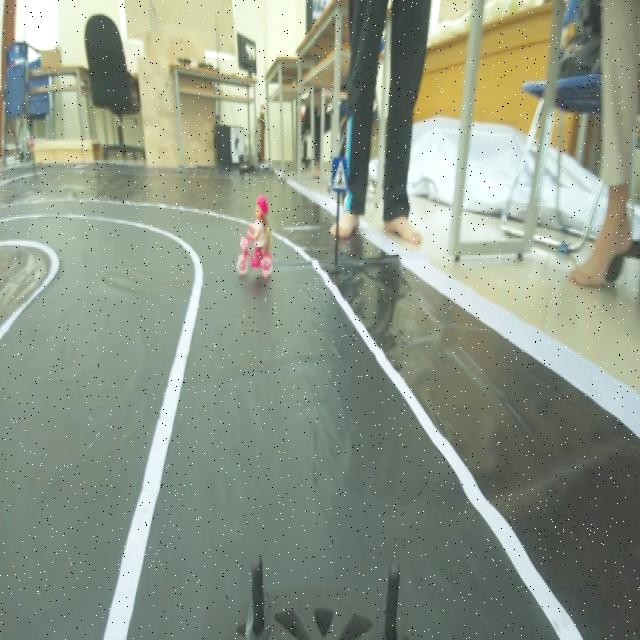pedestrian: (234, 193, 282, 293), (325, 153, 351, 203)
